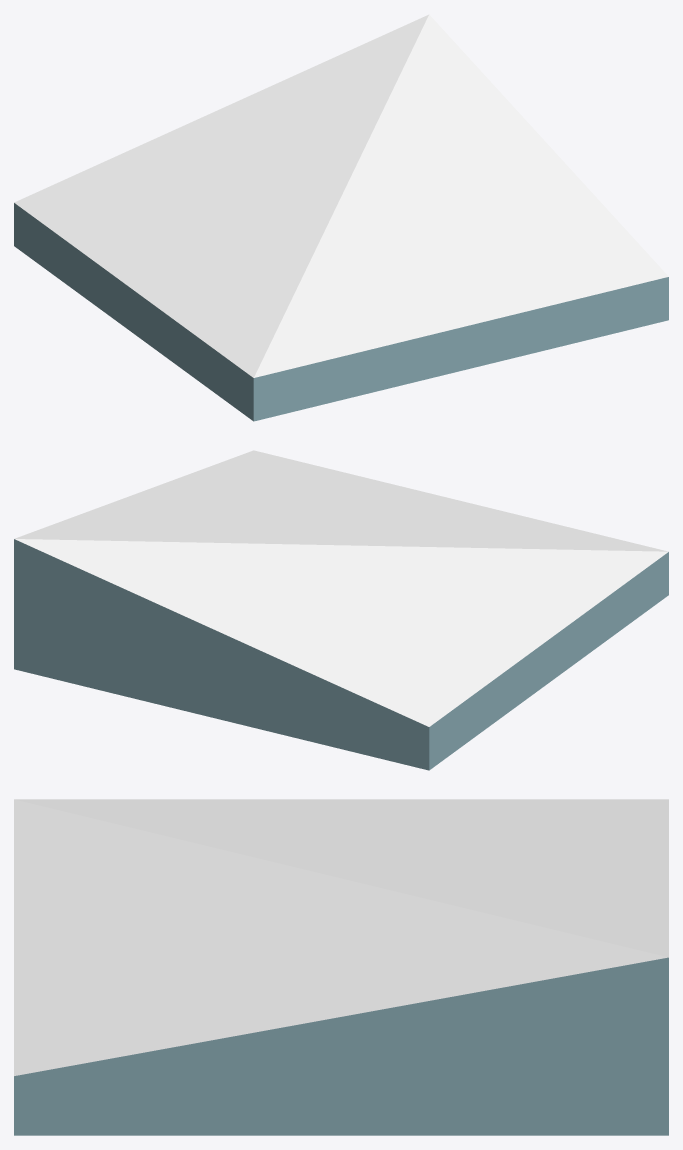
Rendered from Terrain_Modular_Tiles_Snow_Ice_Ramp_Corner_Large_01.fbx.
3 renders of one model, top to bottom at view 1: azimuth 30°, elevation 25°; view 2: azimuth 150°, elevation 25°; view 3: azimuth 270°, elevation 25°, orthographic. The views are drawn at different scales.
Parts seen in each view (by area): view 1: Terrain_Modular_Tiles_Snow_Ice_Ramp_Corner_Large_01; view 2: Terrain_Modular_Tiles_Snow_Ice_Ramp_Corner_Large_01; view 3: Terrain_Modular_Tiles_Snow_Ice_Ramp_Corner_Large_01.
Part boxes in pixels (left/top/right/bottom): Terrain_Modular_Tiles_Snow_Ice_Ramp_Corner_Large_01: left=14, top=14, right=668, bottom=421; Terrain_Modular_Tiles_Snow_Ice_Ramp_Corner_Large_01: left=14, top=450, right=668, bottom=770; Terrain_Modular_Tiles_Snow_Ice_Ramp_Corner_Large_01: left=14, top=799, right=668, bottom=1135.
Bounding box in the file's own units: 3000 × 900 × 3000.
